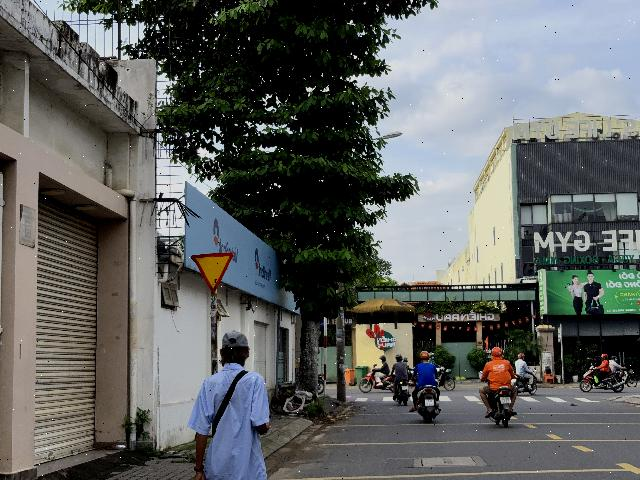giao-nhau-voi-duong-uu-tien: (191, 252, 234, 294)
